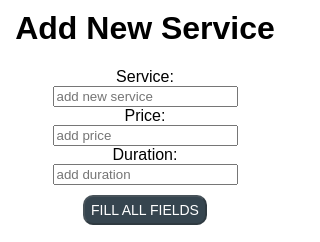
Test: AddService Page › enables button when form is filled
Type "Haircut" into the field with placeholder "add new service" at (145, 97), box [52,86,238,107]
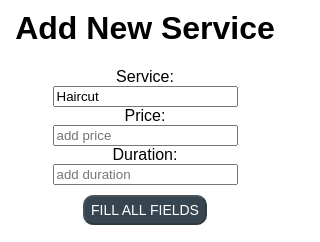
Type "20" into the number field with placeholder "add price" at (145, 136), box [52,125,238,146]
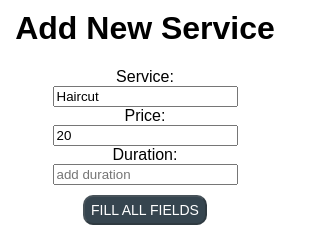
Type "30" into the number field with placeholder "add duration" at (145, 175), box [52,164,238,185]
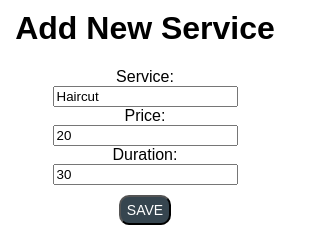
Check: the button "SAVE" is enabled, box [119,195,171,225]
